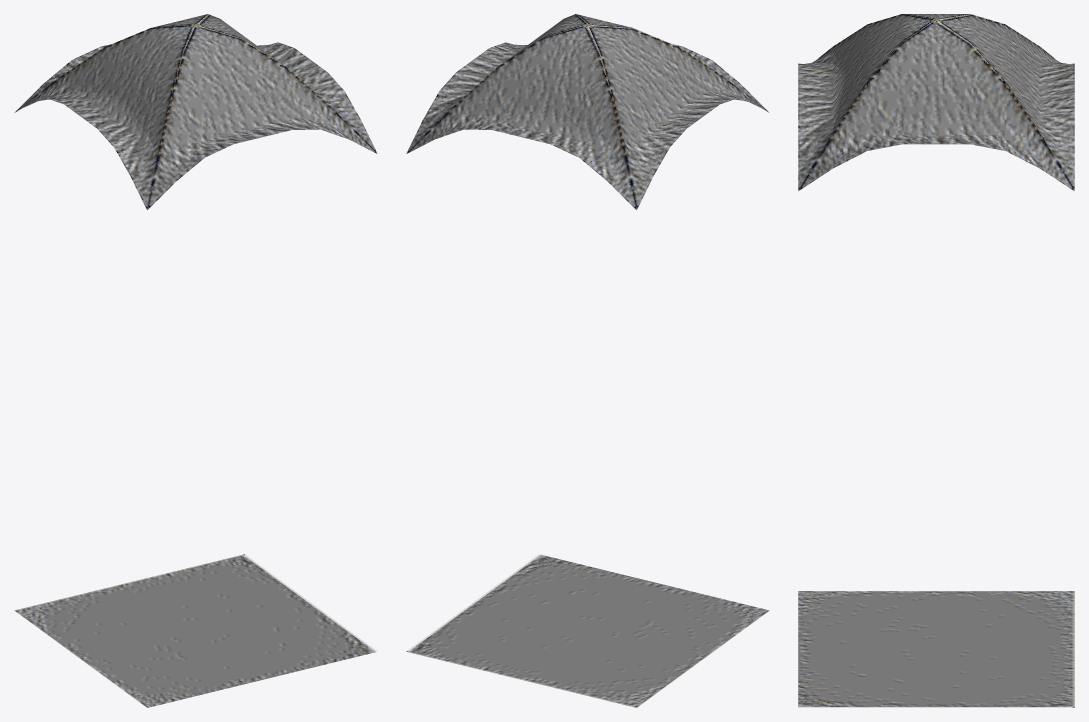
File: Ceiling.obj
The picture shows the model from 3 angles, left to right: view 1: azimuth 30°, elevation 25°; view 2: azimuth 150°, elevation 25°; view 3: azimuth 270°, elevation 25°; orthographic projection. The views are drawn at different scales.
Parts seen in each view (by area): view 1: Ceiling Ceiling, Ceiling polySurface13; view 2: Ceiling Ceiling, Ceiling polySurface13; view 3: Ceiling Ceiling, Ceiling polySurface13.
Part boxes in pixels (x1,y1,x2,y2): Ceiling Ceiling: (14, 14, 377, 210); Ceiling polySurface13: (14, 554, 377, 707); Ceiling Ceiling: (406, 14, 769, 210); Ceiling polySurface13: (406, 554, 769, 707); Ceiling Ceiling: (798, 14, 1074, 190); Ceiling polySurface13: (798, 591, 1074, 707).
Bounding box in the file's own units: 6 × 15.08 × 6.
1 material, 1 textured.
